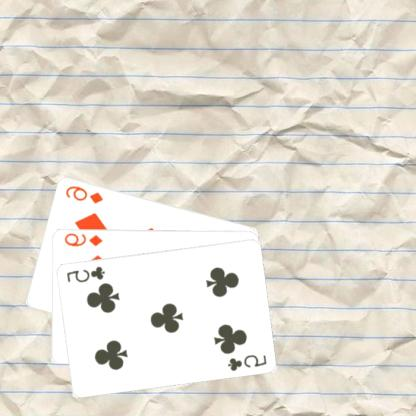5C: (226, 351, 270, 373), (64, 264, 107, 284)
6D: (64, 182, 106, 205)
9D: (63, 231, 105, 247)
